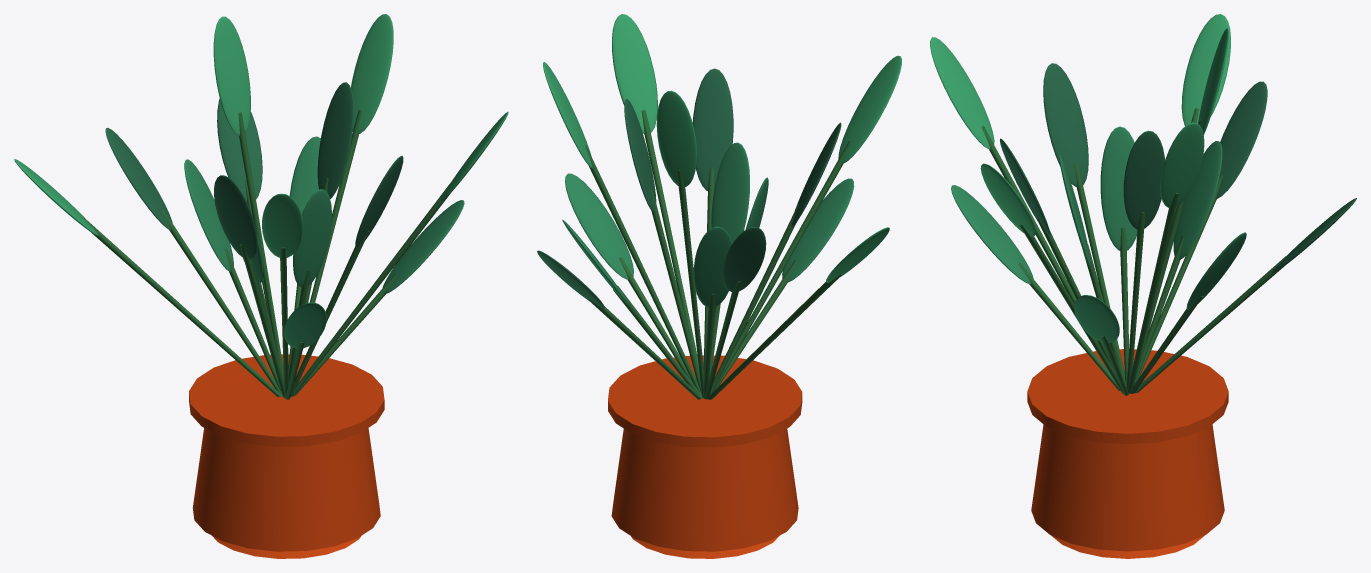
Rendered from plant_orange.glb.
The picture shows the model from 3 angles, left to right: view 1: azimuth 30°, elevation 25°; view 2: azimuth 150°, elevation 25°; view 3: azimuth 270°, elevation 25°; orthographic projection. The views are drawn at different scales.
Visible parts, largest first — view 1: plant_orange; view 2: plant_orange; view 3: plant_orange.
Part boxes in pixels (x1,y1,x2,y2): plant_orange: (14,14,508,558); plant_orange: (537,14,901,558); plant_orange: (930,14,1356,558).
Size of the model in its own units: 2.35 by 2.78 by 2.21.
